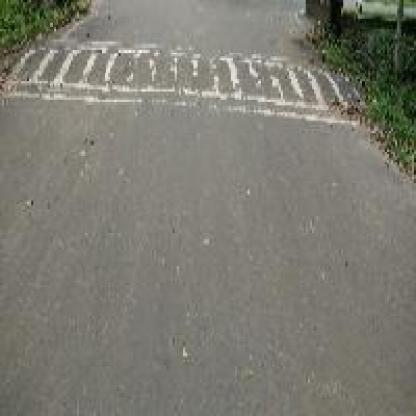Speed Bump: (0, 35, 360, 127)
